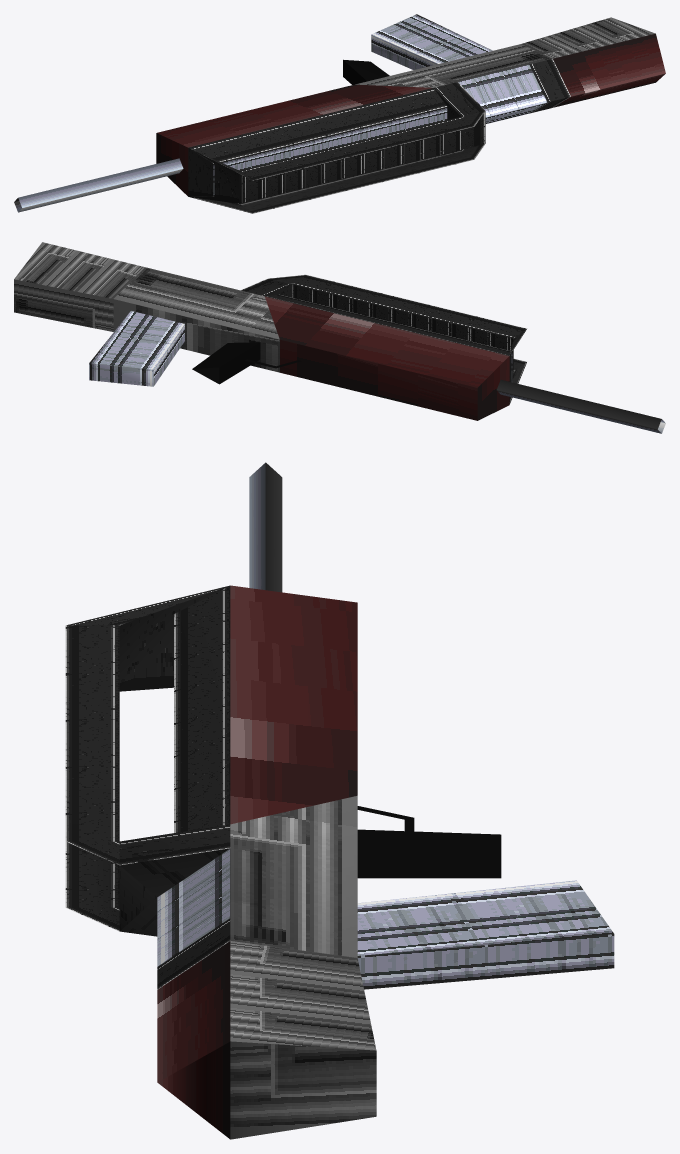
3 views of the same model, one above another, from view 1: azimuth 30°, elevation 25°; view 2: azimuth 150°, elevation 25°; view 3: azimuth 270°, elevation 25° (orthographic). The views are drawn at different scales.
Parts seen in each view (by area): view 1: gun; view 2: gun; view 3: gun.
Part boxes in pixels (<box>): gun: <box>14,14,665,213</box>; gun: <box>14,242,665,433</box>; gun: <box>65,462,614,1139</box>.
Size of the model in its own units: 740 by 55.29 by 280.
Materials: 6 (6 with a texture image).
